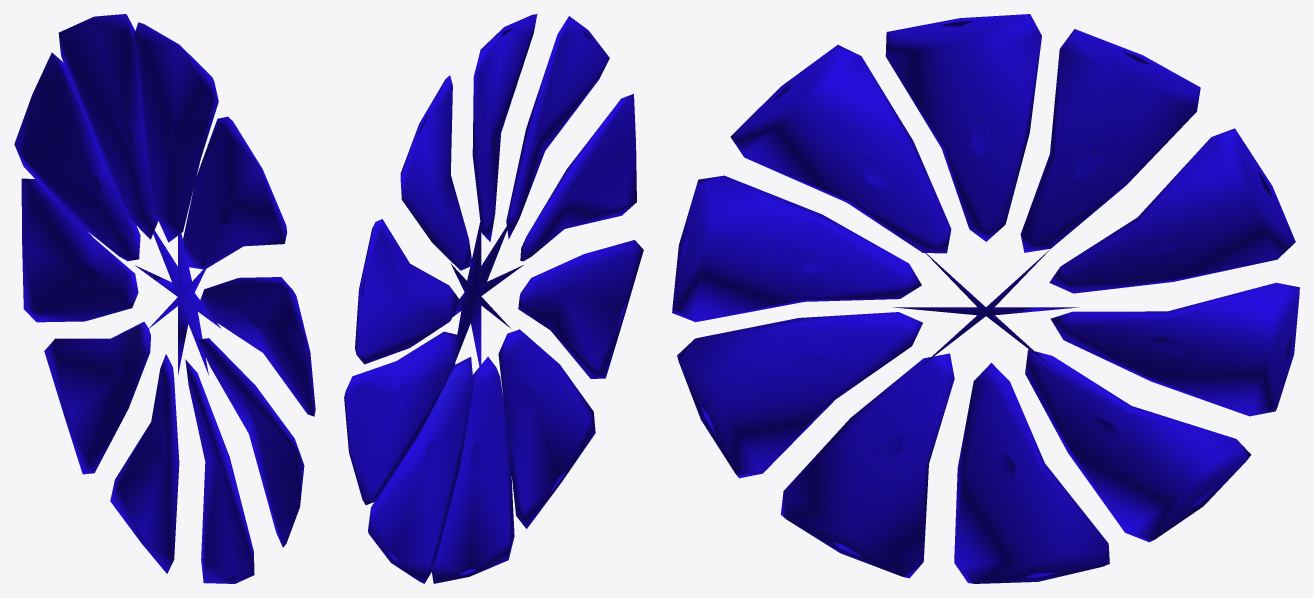
Rendered from MoneyPrinters_Fan_LOD2.fbx.
The picture shows the model from 3 angles, left to right: view 1: azimuth 30°, elevation 25°; view 2: azimuth 150°, elevation 25°; view 3: azimuth 270°, elevation 25°; orthographic projection. The views are drawn at different scales.
Visible parts, largest first — view 1: Fluent_Wire.029; view 2: Fluent_Wire.029; view 3: Fluent_Wire.029.
Boxes of the visible parts, x1,y1,x2,y2 form: Fluent_Wire.029: (14, 14, 315, 583); Fluent_Wire.029: (344, 14, 643, 583); Fluent_Wire.029: (672, 14, 1299, 583).
Bounding box in the file's own units: 0.2944 × 4.16 × 4.16.
